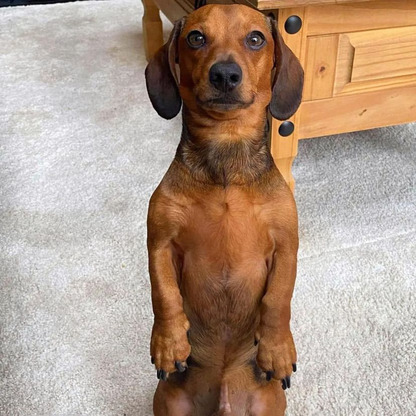dachshund: (138, 16, 311, 395)
